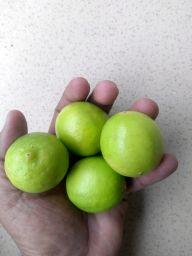lemon: (97, 107, 167, 181), (3, 129, 72, 195), (63, 153, 130, 214), (52, 98, 113, 161)
